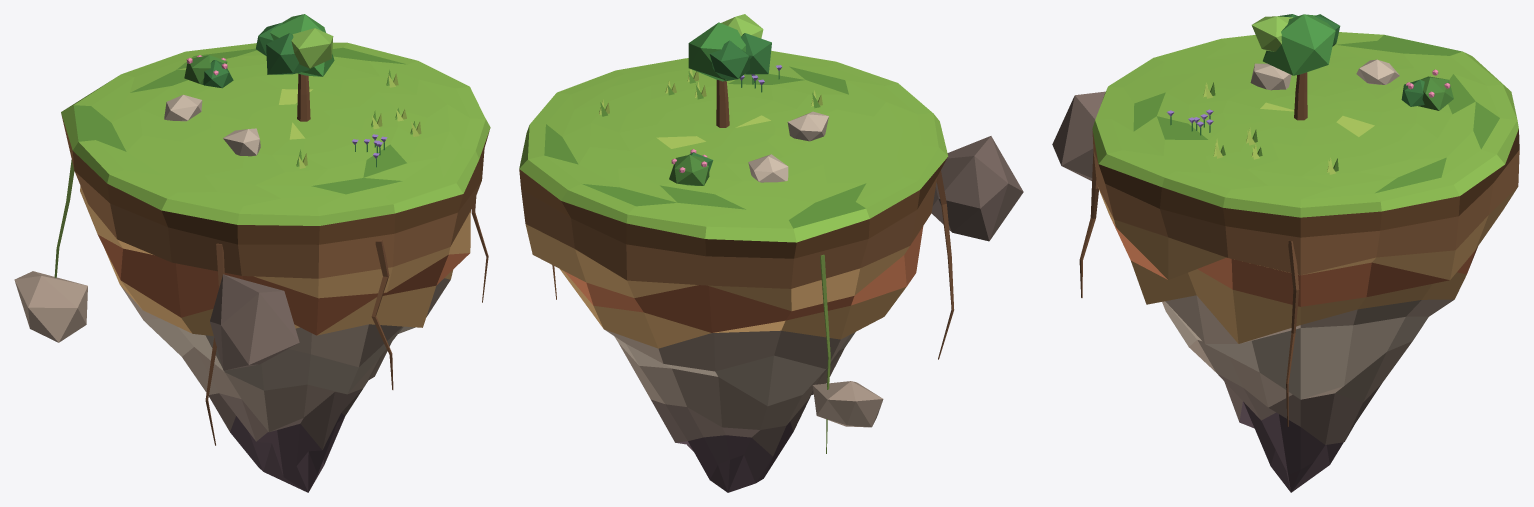
The model's file is islet_a.glb.
The picture shows the model from 3 angles, left to right: view 1: azimuth 30°, elevation 25°; view 2: azimuth 150°, elevation 25°; view 3: azimuth 270°, elevation 25°; orthographic projection.
Visible parts, largest first — view 1: Island-col, Debris, Dressing, Roots; view 2: Island-col, Debris, Dressing, Roots; view 3: Island-col, Dressing, Debris, Roots.
Boxes of the visible parts, x1,y1,x2,y2 form: Island-col: [61, 42, 490, 492]; Debris: [14, 271, 299, 370]; Dressing: [164, 14, 421, 168]; Roots: [54, 160, 488, 445]; Island-col: [519, 51, 948, 492]; Debris: [812, 136, 1023, 427]; Dressing: [599, 14, 828, 185]; Roots: [552, 170, 954, 453]; Island-col: [1092, 32, 1519, 492]; Dressing: [1167, 14, 1453, 174]; Debris: [1052, 91, 1105, 180]; Roots: [1079, 150, 1299, 426].
Size of what is drawn, in the model's own units: 17.16 by 19.61 by 17.3.
